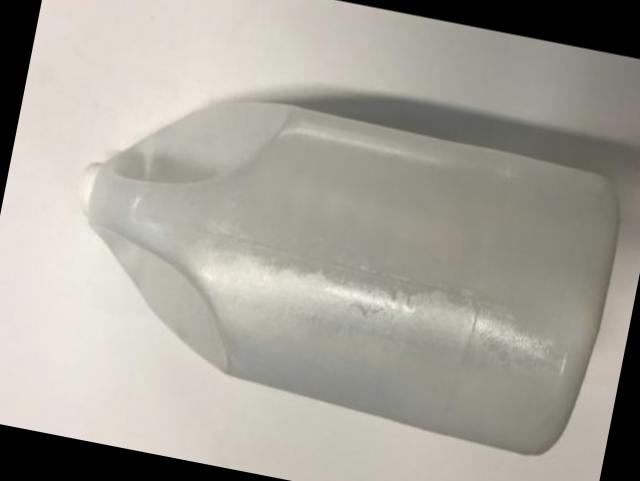plastic: (83, 99, 615, 450)
